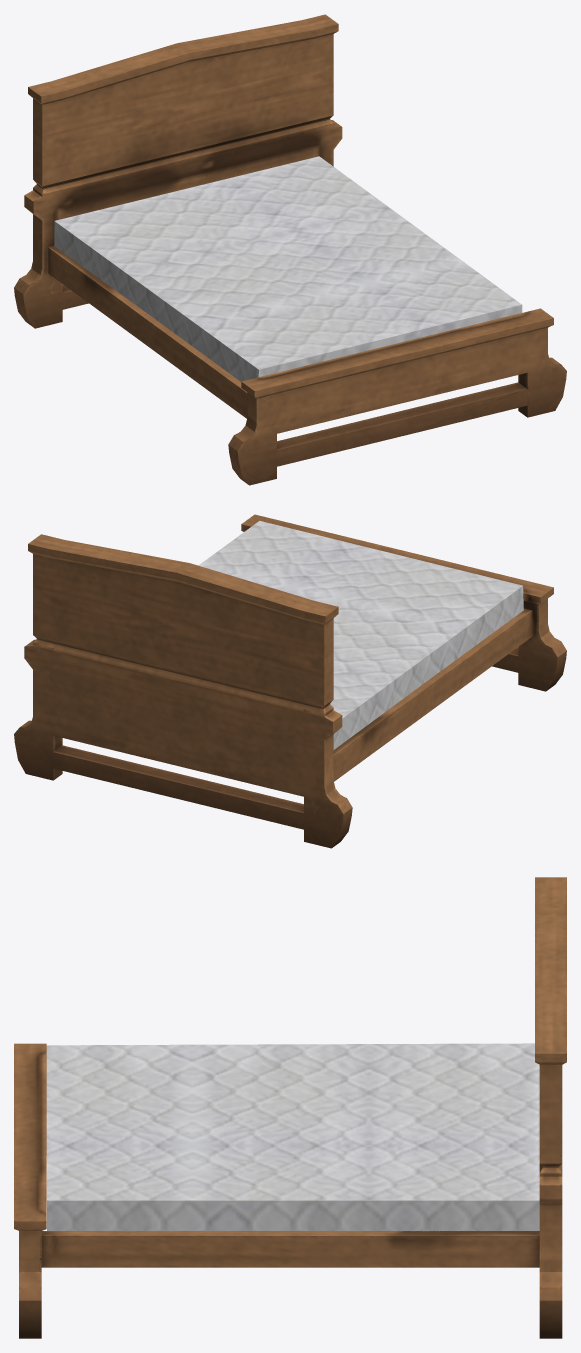
Rendered from double_bed_1.fbx.
The picture shows the model from 3 angles, top to bottom: view 1: azimuth 30°, elevation 25°; view 2: azimuth 150°, elevation 25°; view 3: azimuth 270°, elevation 25°; orthographic projection. The views are drawn at different scales.
Parts seen in each view (by area): view 1: double_bed_1; view 2: double_bed_1; view 3: double_bed_1.
Boxes of the visible parts, x1,y1,x2,y2 form: double_bed_1: [14, 14, 566, 485]; double_bed_1: [14, 514, 566, 848]; double_bed_1: [14, 877, 566, 1338].
Size of the model in its own units: 2 by 1.39 by 2.39.
